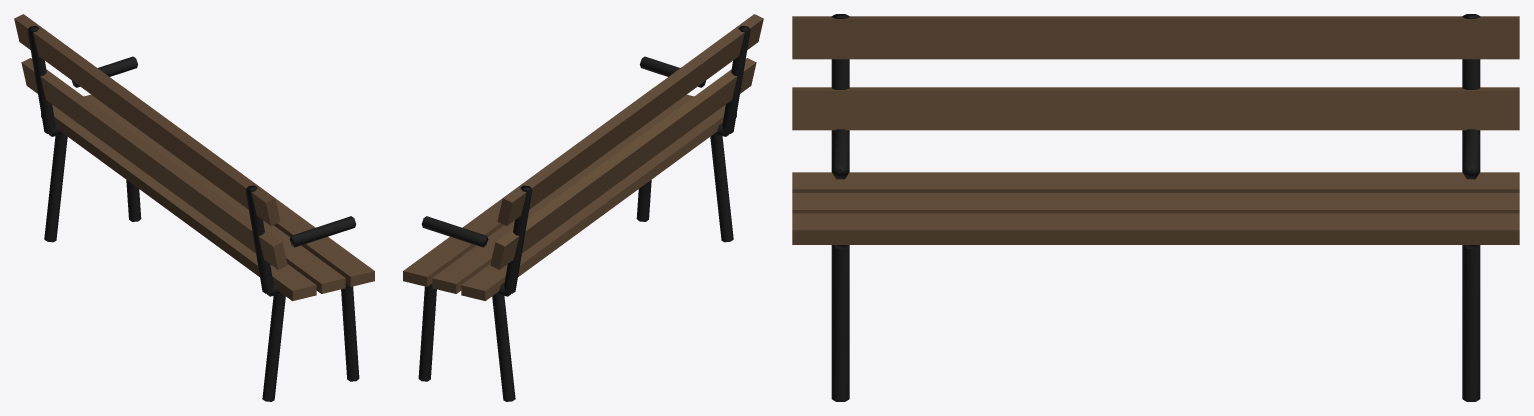
File: SM_Prop_seat_1.glb
3 renders of one model, left to right at view 1: azimuth 30°, elevation 25°; view 2: azimuth 150°, elevation 25°; view 3: azimuth 270°, elevation 25°, orthographic. The views are drawn at different scales.
Parts seen in each view (by area): view 1: SM_Prop_seat_1; view 2: SM_Prop_seat_1; view 3: SM_Prop_seat_1.
Boxes of the visible parts, box(x1,y1,x2,y2) form: SM_Prop_seat_1: box(14, 14, 374, 401); SM_Prop_seat_1: box(403, 14, 763, 401); SM_Prop_seat_1: box(792, 14, 1519, 401).
Size of the model in its own units: 0.4588 by 0.8554 by 1.8.
